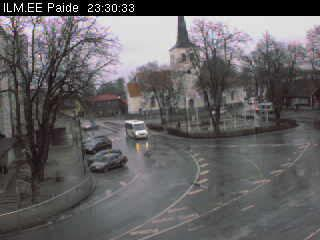bus: (126, 120, 149, 140)
car: (89, 154, 128, 172), (87, 148, 122, 167), (84, 138, 112, 153), (82, 135, 107, 150), (256, 102, 274, 115), (81, 123, 99, 130)
